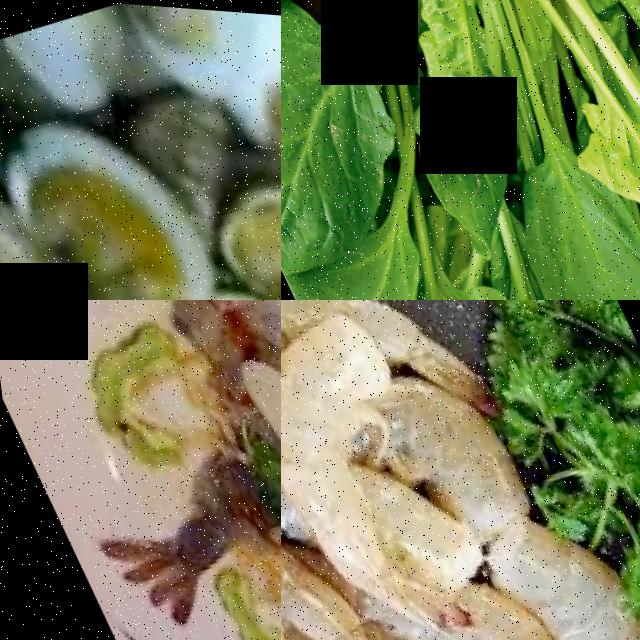shrimp: (502, 534, 640, 640)
spinach: (281, 7, 399, 278), (481, 135, 640, 300), (589, 80, 640, 280), (281, 251, 413, 300)
